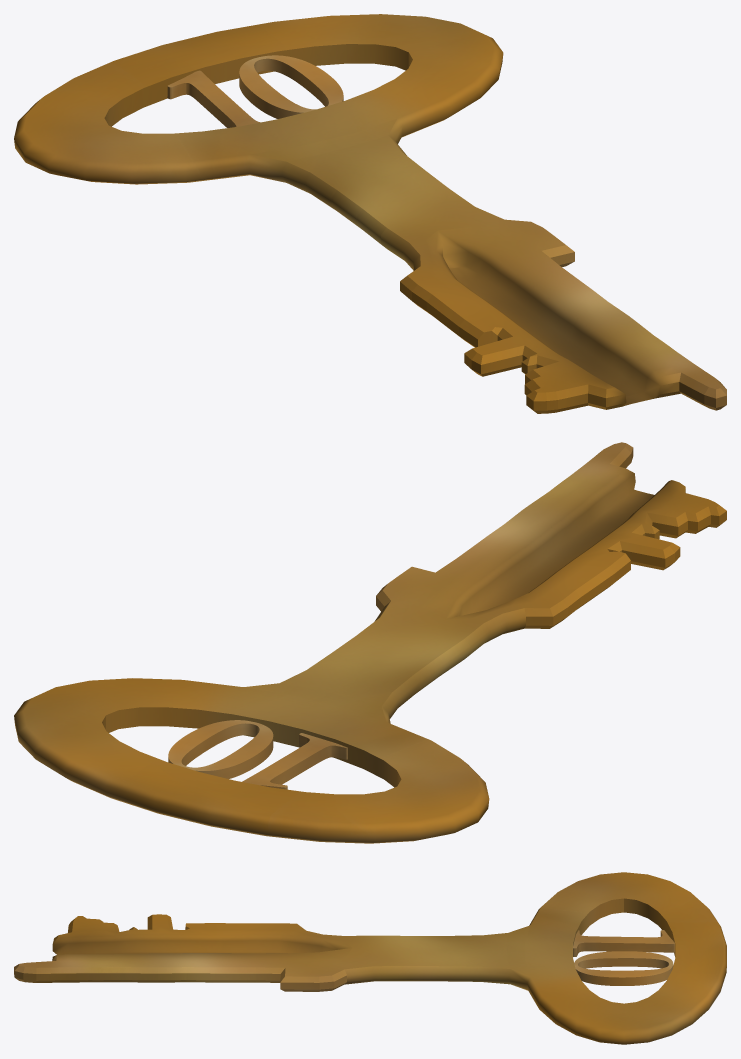
The model's file is cell_key.fbx.
3 views of the same model, one above another, from view 1: azimuth 30°, elevation 25°; view 2: azimuth 150°, elevation 25°; view 3: azimuth 270°, elevation 25° (orthographic). The views are drawn at different scales.
Parts seen in each view (by area): view 1: key, number; view 2: key, number; view 3: key, number.
Part boxes in pixels (box(x1,y1,x2,y2)): key: box(14, 14, 726, 413); number: box(167, 55, 343, 127); key: box(14, 442, 726, 843); number: box(168, 720, 347, 789); key: box(14, 872, 726, 1044); number: box(573, 930, 674, 985).
Size of the model in its own units: 22.02 by 0.9801 by 40.42.
Materials: 2 (2 with a texture image).
